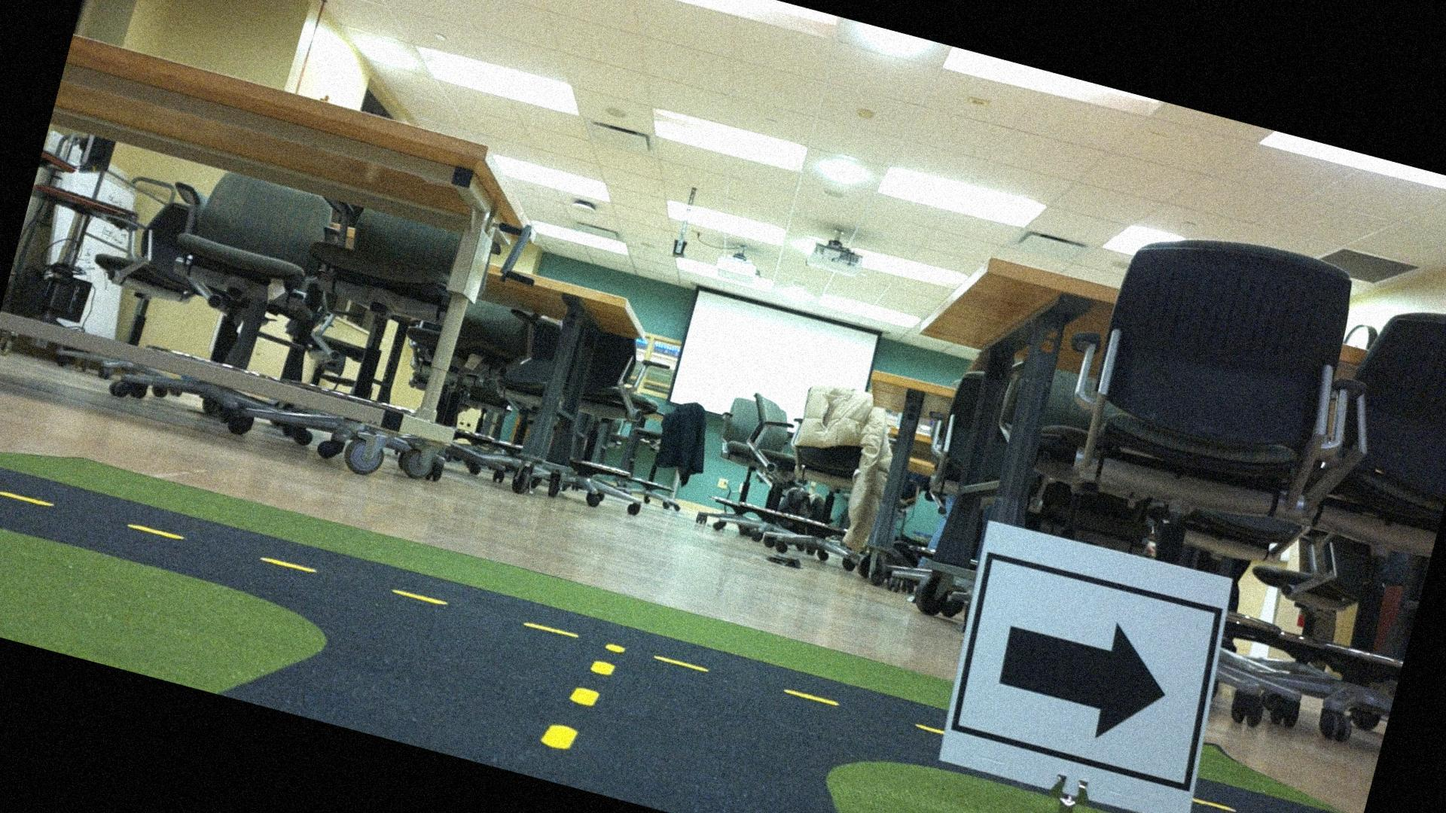turnleft: (938, 524, 1237, 808)
yellowline: (0, 480, 931, 738), (540, 647, 618, 761)
